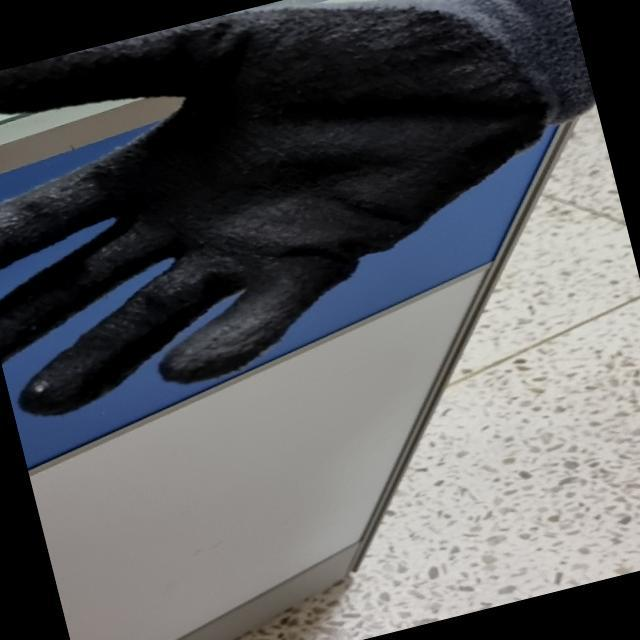Gloves: (0, 0, 544, 421)
